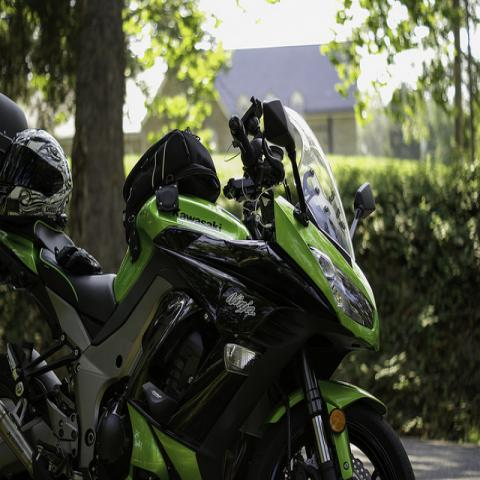motorcycle: (0, 93, 419, 480)
